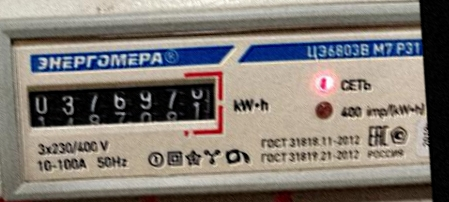0: (33, 92, 48, 115)
1: (191, 100, 203, 121)
3: (61, 94, 77, 116)
6: (112, 87, 128, 111)
7: (86, 90, 103, 115), (164, 86, 180, 110)
9: (138, 87, 153, 110)
screen: (18, 60, 231, 150)
